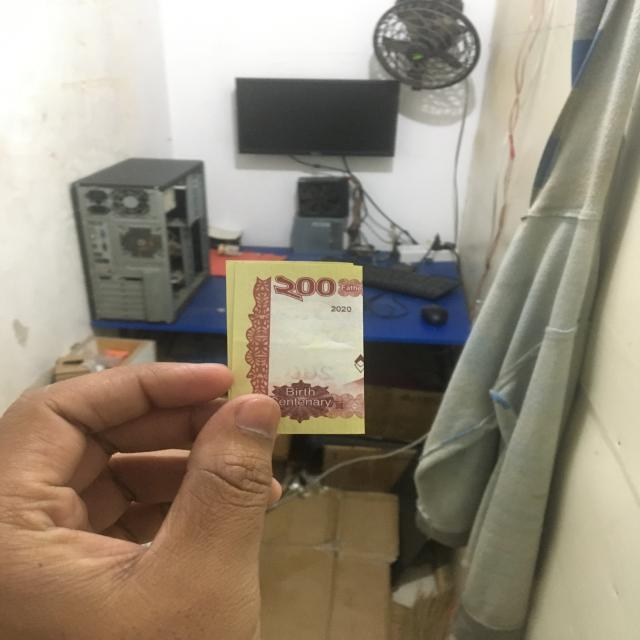Taka: (230, 261, 360, 431)
